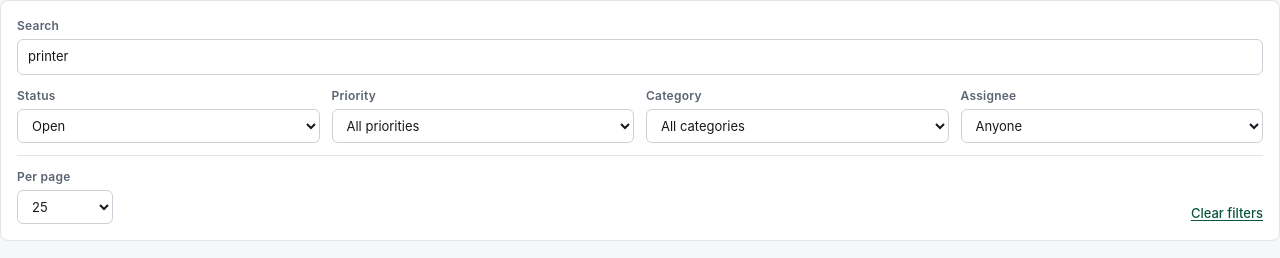
clear filters › appears only when a filter is active and resets the whole query
The image size is (1280, 258).
Click the link "Clear filters" at (1227, 214), box left=1191, top=204, right=1263, bottom=224
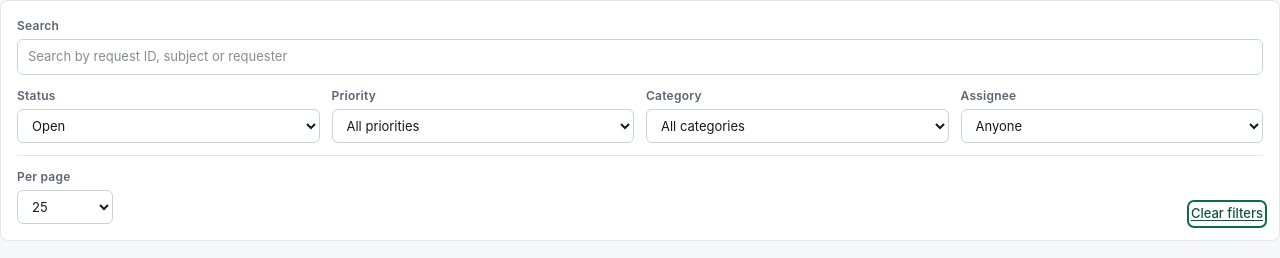
Expected: the search field labelled "Search" is empty, left=17, top=39, right=1263, bottom=74
